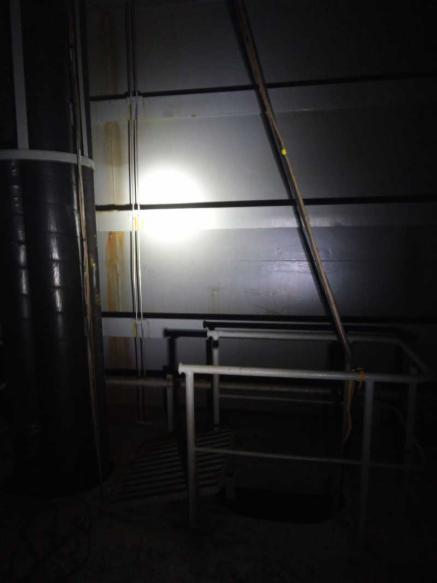corrosion: (92, 118, 134, 209), (101, 237, 130, 308), (109, 336, 132, 366)
